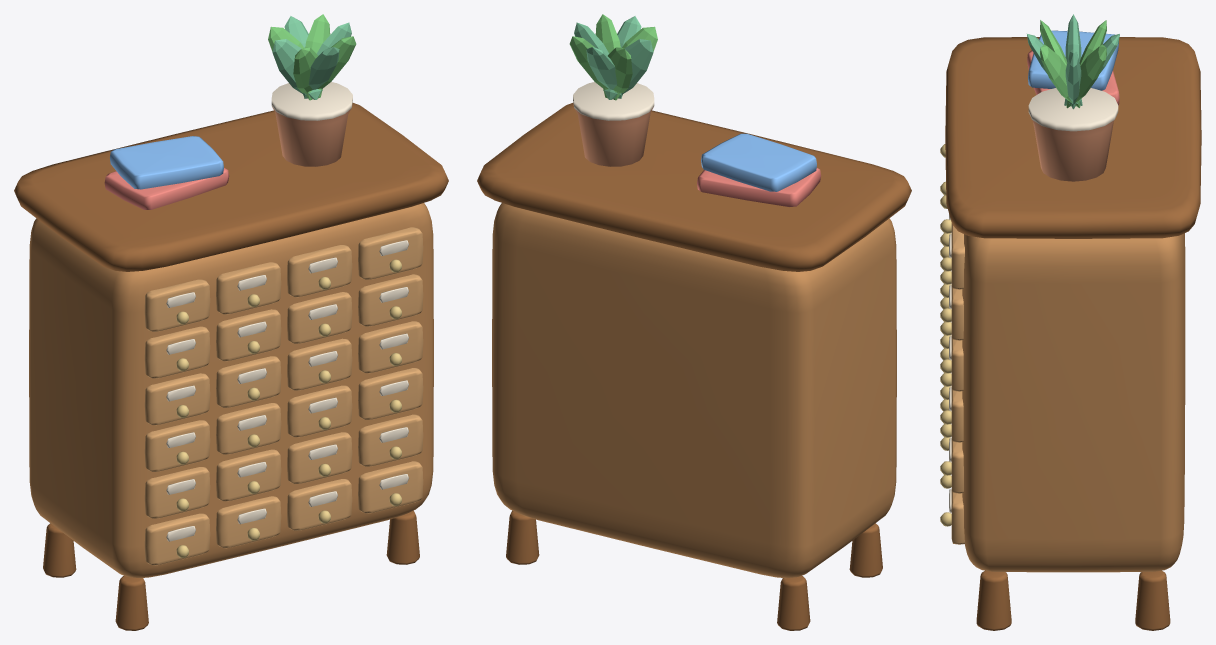
The model's file is card_catalog.glb.
3 views of the same model, side by side, from view 1: azimuth 30°, elevation 25°; view 2: azimuth 150°, elevation 25°; view 3: azimuth 270°, elevation 25° (orthographic). The views are drawn at different scales.
Visible parts, largest first — view 1: card_catalog; view 2: card_catalog; view 3: card_catalog.
Part boxes in pixels (box(x1,y1,x2,y2)): card_catalog: box(14, 14, 448, 630); card_catalog: box(477, 14, 911, 630); card_catalog: box(940, 14, 1201, 630).
Size of the model in its own units: 1.08 by 1.52 by 0.6421.
1 material, 1 textured.
